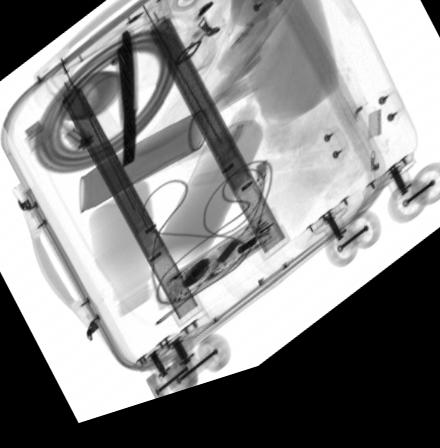Pliers: (116, 42, 137, 176)
